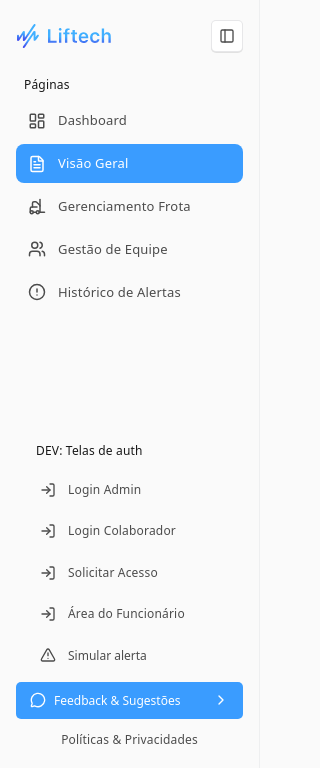
Test: Sidebar component › toggles between expanded and collapsed layouts when the toggle button is clicked
The width and height of the screenshot is (320, 768).
Expected: the picture with alt text "Liftech" is shown, [48,28,112,44]
Click the button named "colapsar menu". click: (227, 36)
box: [211,20,243,52]
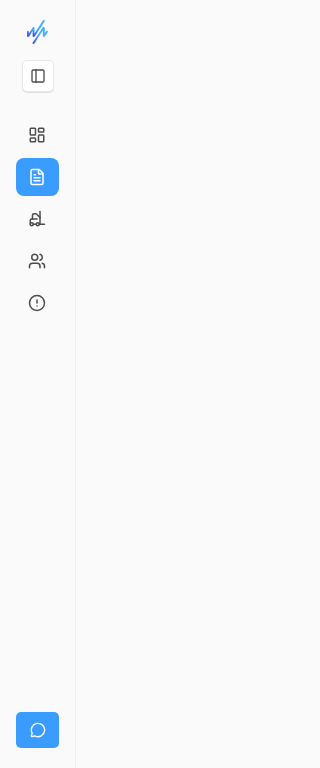
Expected: the picture with alt text "Liftech" is gone
Click the button named "expandir menu". click: (38, 76)
box: [22,60,54,92]
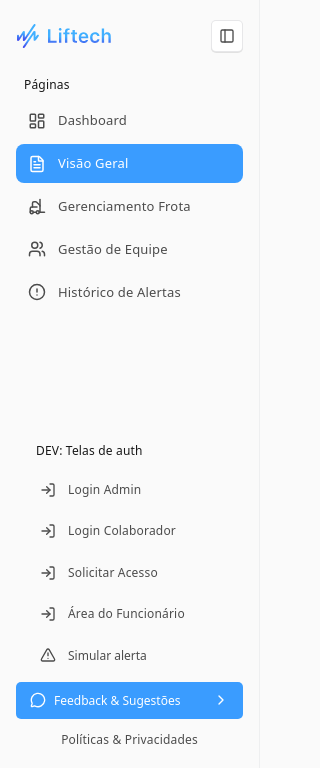
Expected: the picture with alt text "Liftech" is shown, [48,28,112,44]
